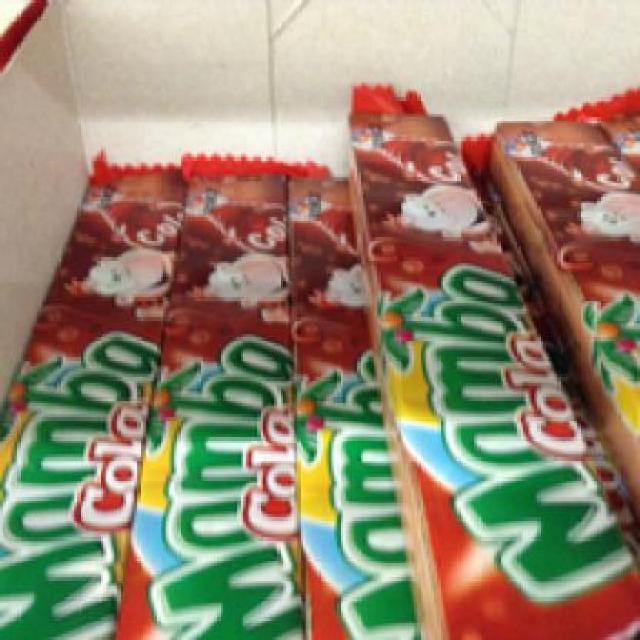Candy: (323, 77, 626, 637), (137, 148, 300, 638), (6, 142, 166, 638), (268, 152, 398, 638)
